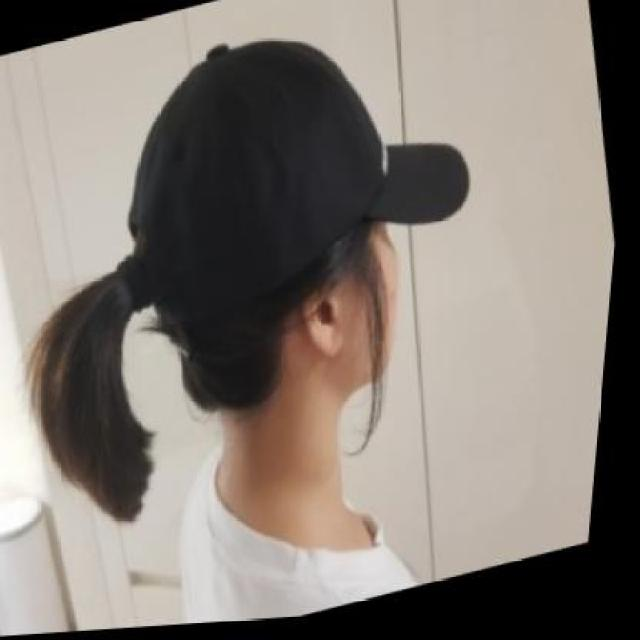hat: (92, 0, 501, 335)
